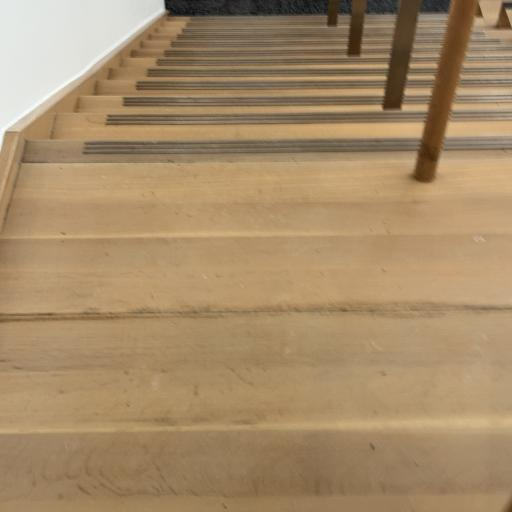Stairs: (0, 14, 512, 512)
